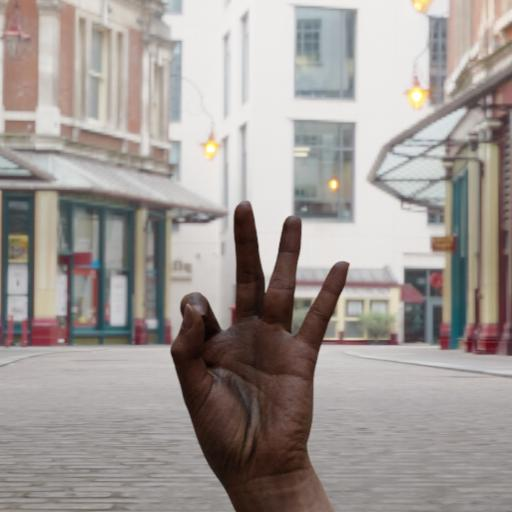F: (157, 197, 356, 490)
